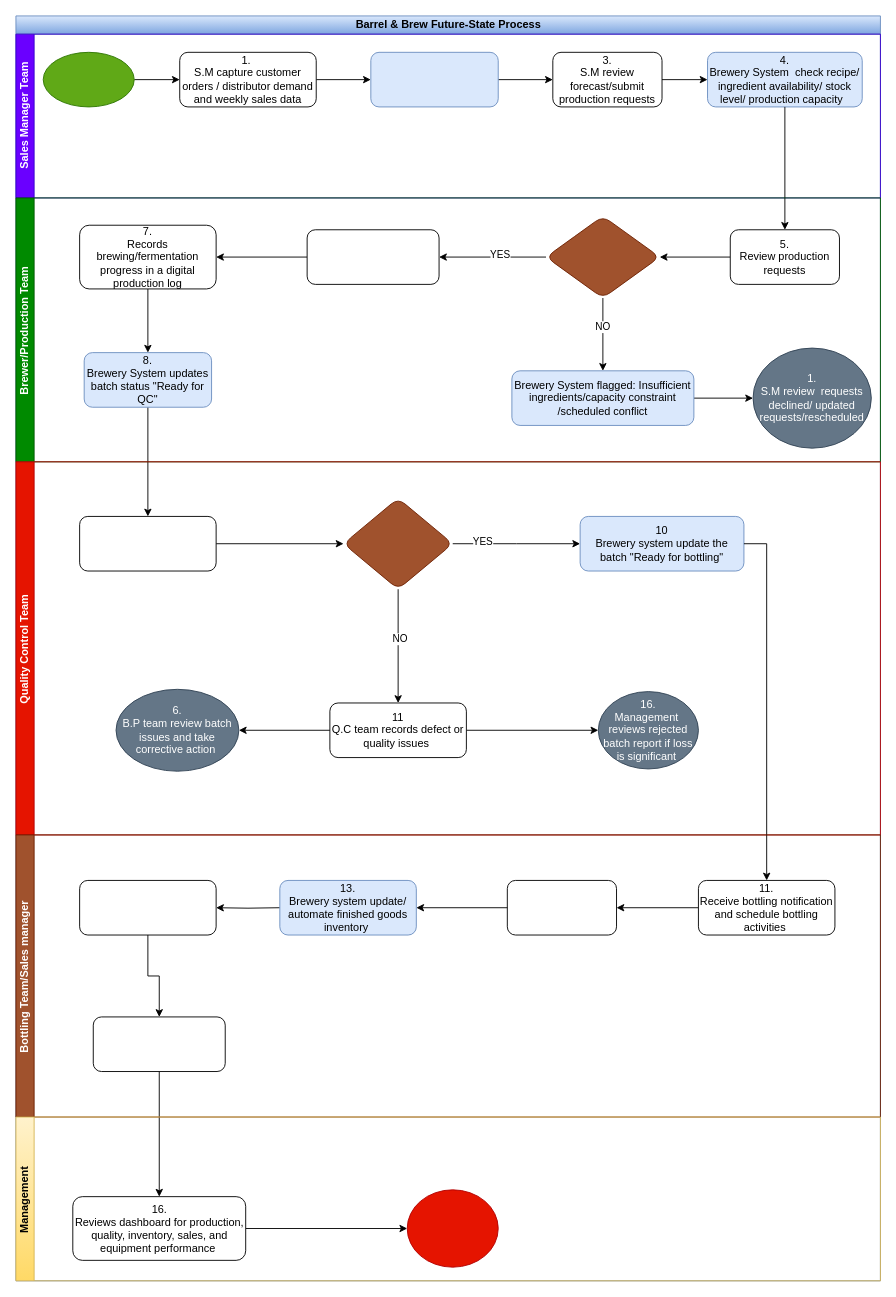
The diagram is 896 pixels wide and 1297 high, and some of its shapes have lost their labels. The centre of each missing label's shape, as x and y in pixels:
12. Complete bottling and records quantity produced: the point at 561,907
14 S.M checks available stock before confirming customer orders: the point at 147,907
15. S.M confirms order and delivery commitment to customer: the point at 158,1044
2. Brewery system generate forecast and shows inventory position: the point at 434,79
6. Create approved batch and follow standardize digital recipe: the point at 372,256
9. Completes quality control checklist: the point at 147,543
END: the point at 452,1228
Production clearance: the point at 602,256
Quality Check: the point at 398,543
START: the point at 88,79
